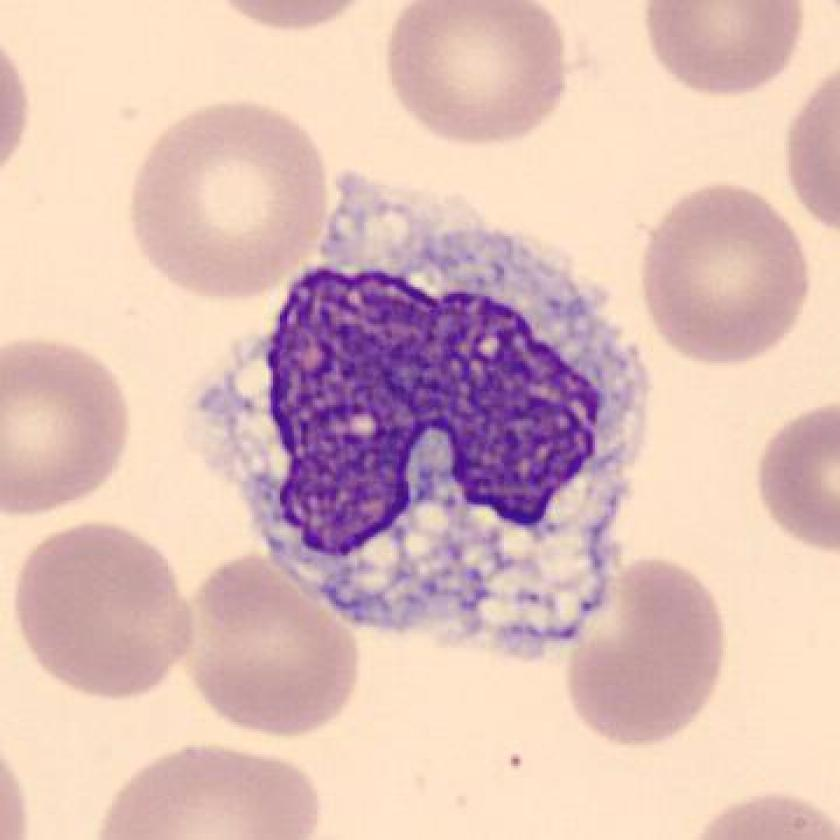monocyte: (169, 154, 682, 672)
